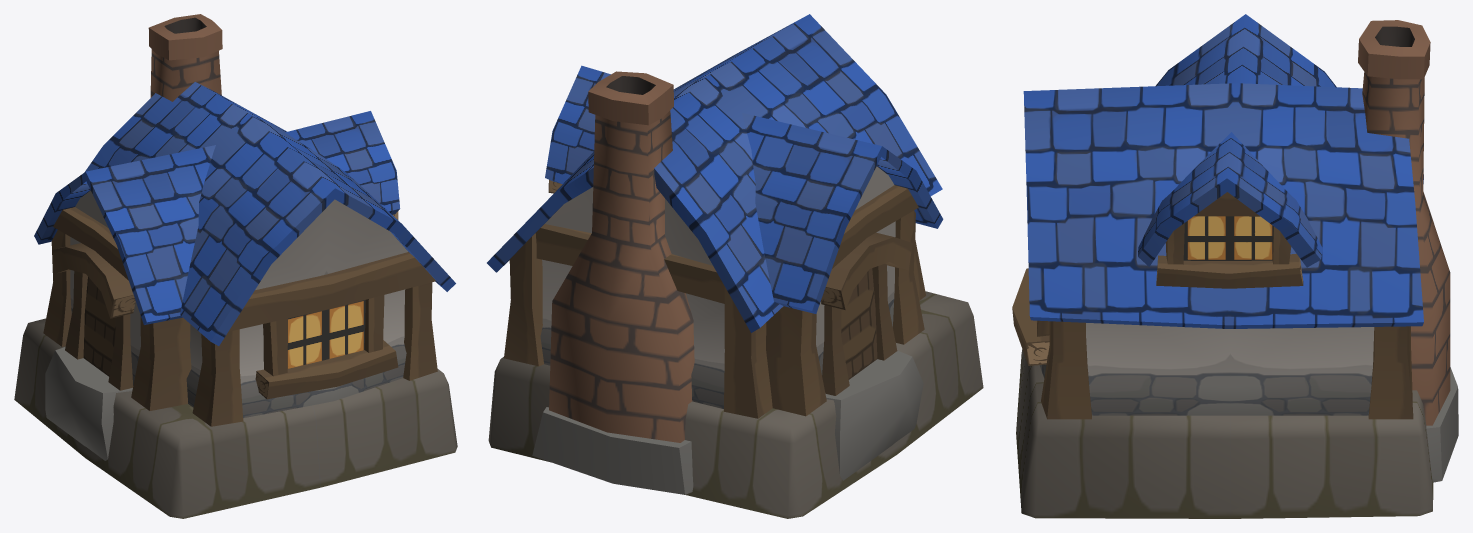
The model's file is House.FBX.
The picture shows the model from 3 angles, left to right: view 1: azimuth 30°, elevation 25°; view 2: azimuth 150°, elevation 25°; view 3: azimuth 270°, elevation 25°; orthographic projection. The views are drawn at different scales.
Parts seen in each view (by area): view 1: House; view 2: House; view 3: House.
Part boxes in pixels (x1,y1,x2,y2): House: [14, 14, 457, 518]; House: [487, 14, 983, 518]; House: [1012, 14, 1458, 518].
Size of the model in its own units: 437 by 455 by 449.
